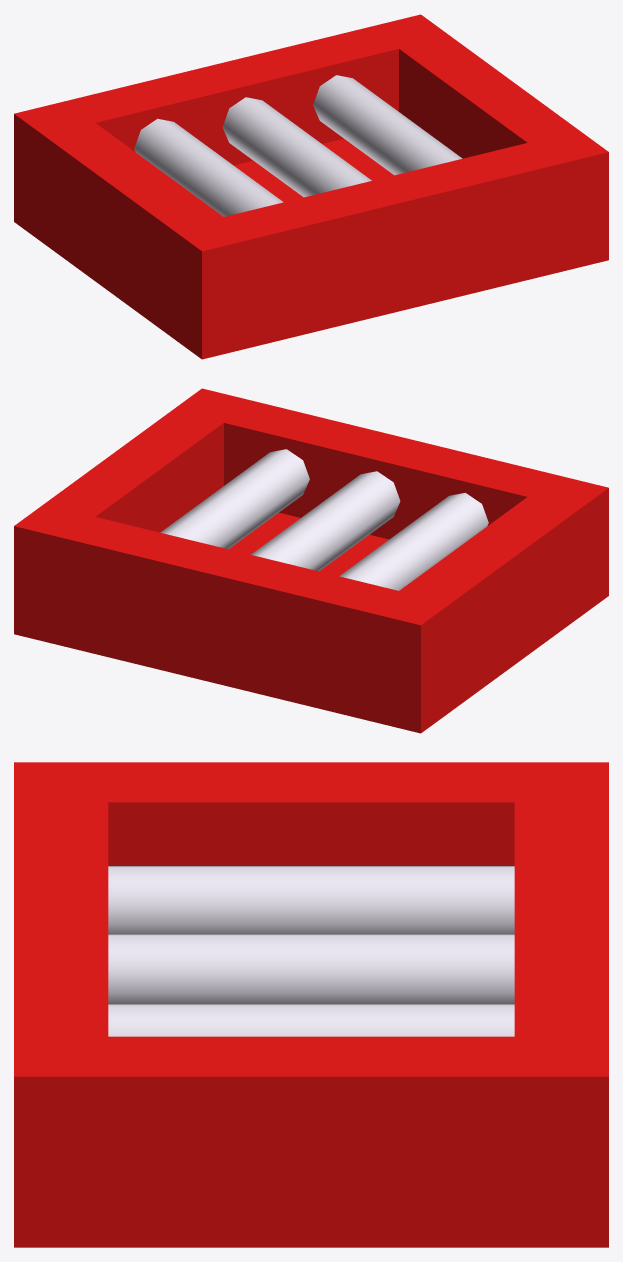
The model's file is may xuc xich.FBX.
The picture shows the model from 3 angles, top to bottom: view 1: azimuth 30°, elevation 25°; view 2: azimuth 150°, elevation 25°; view 3: azimuth 270°, elevation 25°; orthographic projection. The views are drawn at different scales.
Parts seen in each view (by area): view 1: Box162; view 2: Box162; view 3: Box162.
Boxes of the visible parts, left/top/right/bottom form: Box162: left=14, top=14, right=608, bottom=359; Box162: left=14, top=388, right=608, bottom=733; Box162: left=14, top=762, right=608, bottom=1247.
Bounding box in the file's own units: 2.46 × 0.6261 × 1.97.
